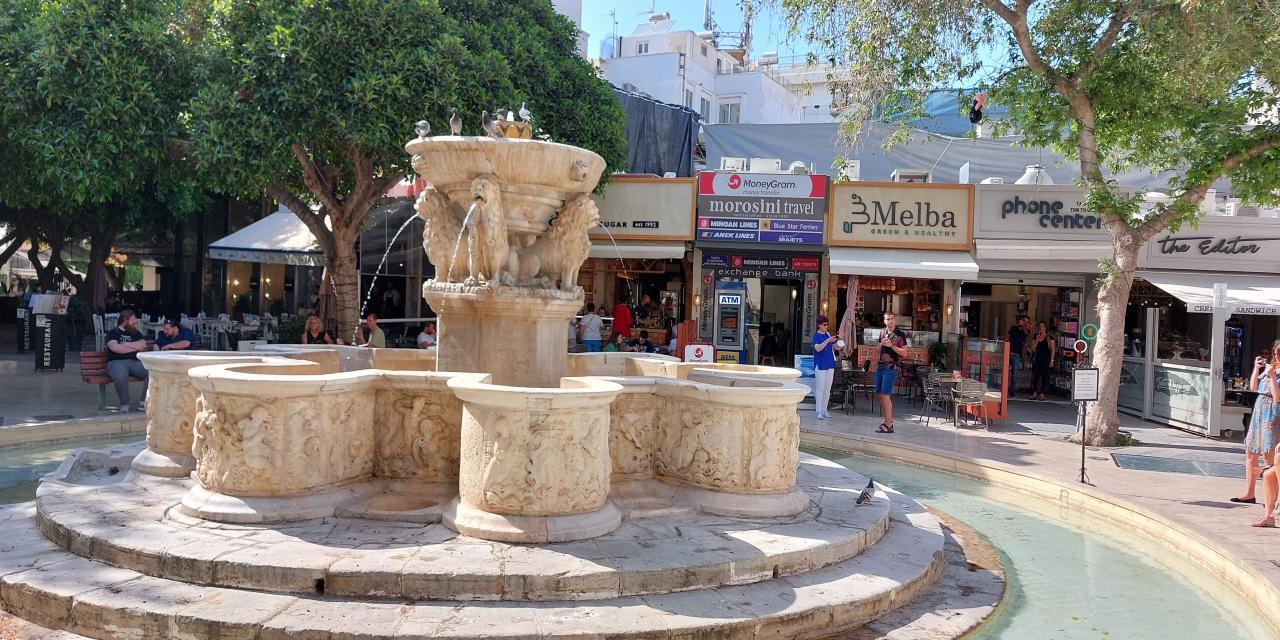Liontaria: (138, 138, 811, 538)
